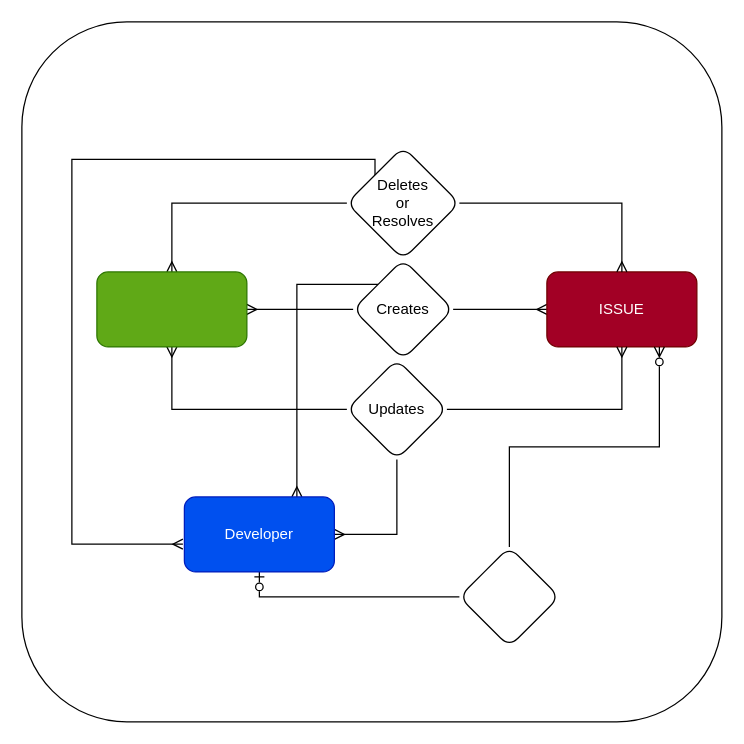
Image size: 744x744. Some labels were removed from this diagram. Here are the shapes that lost their labels. From the top down, the box of each, then its label:
(96, 271, 247, 347): USER
(458, 546, 559, 647): assignedTo
